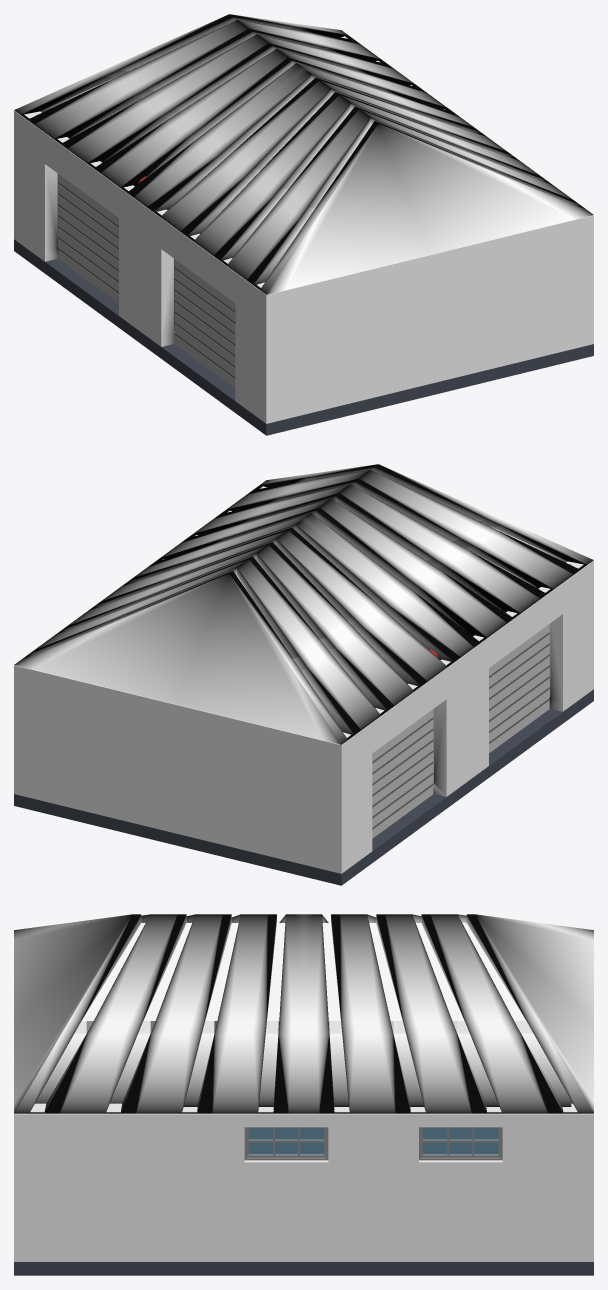
Rendered from NewBase.fbx.
The picture shows the model from 3 angles, top to bottom: view 1: azimuth 30°, elevation 25°; view 2: azimuth 150°, elevation 25°; view 3: azimuth 270°, elevation 25°; orthographic projection. The views are drawn at different scales.
Parts seen in each view (by area): view 1: Roof, Walls.001, Floor.001, GarageDoor_1.001, GarageDoor_2.001; view 2: Roof, Walls.001, Floor.001, GarageDoor_2.001, GarageDoor_1.001; view 3: Roof, Walls.001, Floor.001, Glass.001, Glass, Window.001, Window, WindowFrame, WindowFrame.001.
Part boxes in pixels (x1,y1,x2,y2): Roof: [14, 14, 593, 294]; Walls.001: [14, 36, 593, 423]; Floor.001: [14, 239, 593, 435]; GarageDoor_1.001: [174, 259, 235, 388]; GarageDoor_2.001: [58, 174, 118, 302]; Roof: [14, 464, 593, 744]; Walls.001: [14, 486, 593, 873]; Floor.001: [14, 689, 593, 885]; GarageDoor_2.001: [372, 709, 433, 838]; GarageDoor_1.001: [489, 624, 549, 752]; Roof: [14, 914, 593, 1113]; Walls.001: [14, 1103, 593, 1261]; Floor.001: [14, 1127, 593, 1275]; Glass.001: [423, 1128, 498, 1154]; Glass: [249, 1128, 323, 1154]; Window.001: [421, 1127, 500, 1157]; Window: [246, 1127, 326, 1157]; WindowFrame: [244, 1127, 328, 1160]; WindowFrame.001: [419, 1127, 502, 1160].
Bounding box in the file's own units: 1498 × 1025 × 2000.
